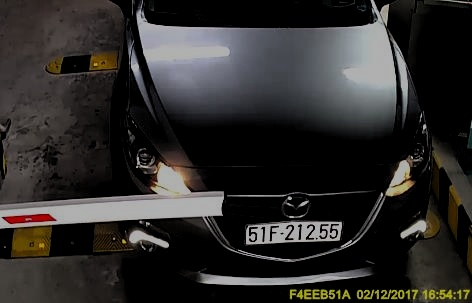plate: (246, 220, 340, 244)
